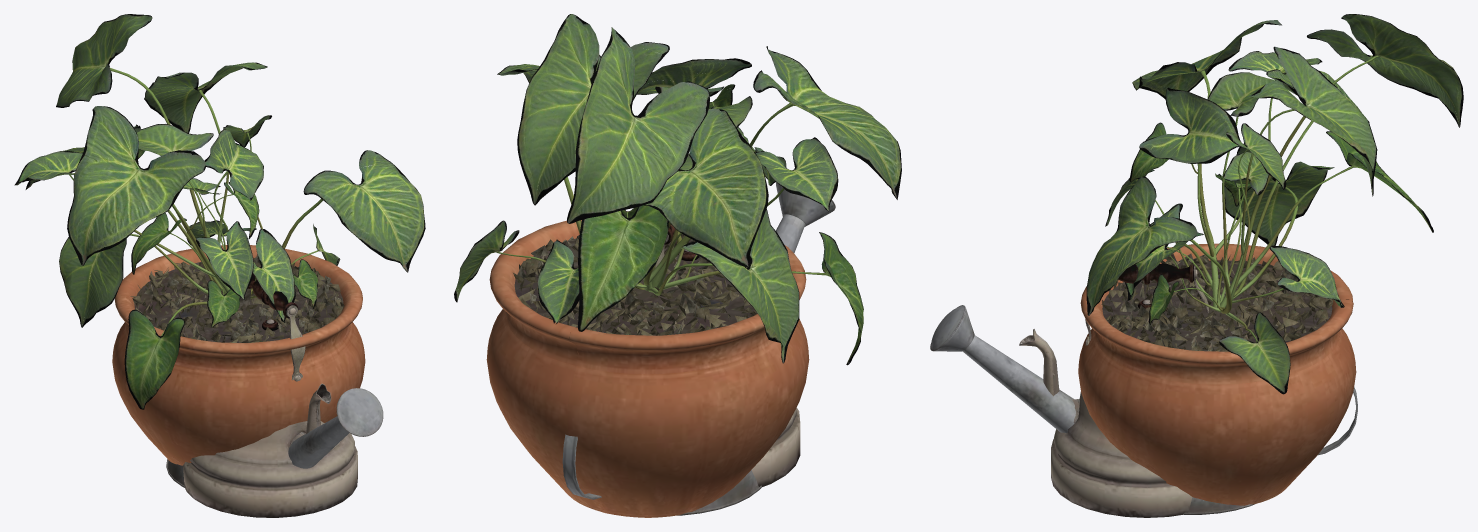
Rendered from study-life-f262c22ea736.glb.
The picture shows the model from 3 angles, left to right: view 1: azimuth 30°, elevation 25°; view 2: azimuth 150°, elevation 25°; view 3: azimuth 270°, elevation 25°; orthographic projection. The views are drawn at different scales.
Visible parts, largest first — view 1: Leaves, Pot, Body, Dirt, Body.001; view 2: Leaves, Pot, Dirt, Body.001, Body; view 3: Leaves, Pot, Dirt, Body, Body.001.
Boxes of the visible parts, box(x1,y1,x2,y2) form: Leaves: box(14, 14, 425, 409); Pot: box(112, 245, 365, 465); Body: box(183, 273, 357, 517); Dirt: box(130, 255, 344, 342); Body.001: box(166, 388, 383, 487); Leaves: box(454, 14, 901, 365); Pot: box(486, 211, 809, 517); Dirt: box(513, 234, 757, 335); Body.001: box(562, 183, 835, 515); Body: box(655, 224, 800, 486); Leaves: box(1086, 14, 1463, 394); Pot: box(1078, 243, 1356, 505); Dirt: box(1101, 253, 1333, 351); Body: box(1019, 263, 1208, 517); Body.001: box(930, 305, 1357, 514).
Size of the model in its own units: 0.4346 by 0.5217 by 0.564.
Materials: 8 (8 with a texture image).
